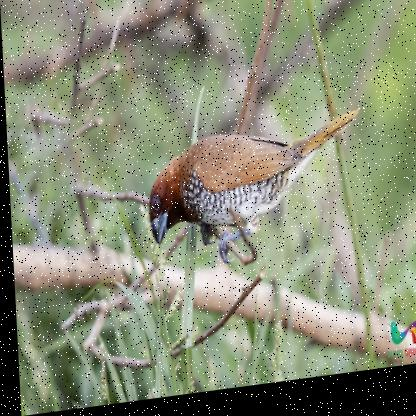Burung: (142, 116, 363, 278)
